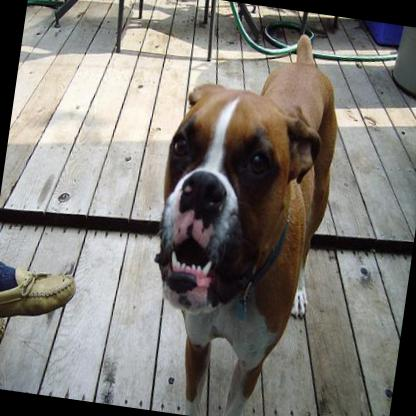boxer: (122, 15, 354, 416)
